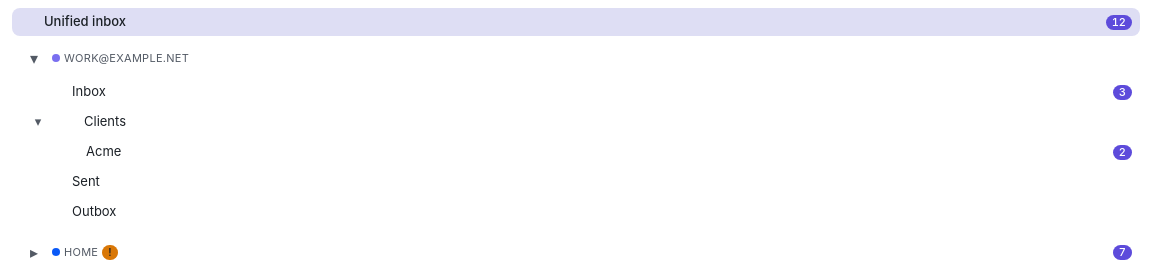
Scenario: the folder context menu › hides the tree-edit verbs when the account cannot edit its folders
The image size is (1152, 277).
Right-click the button "Acme": (104, 151) [86,142,1105,162]
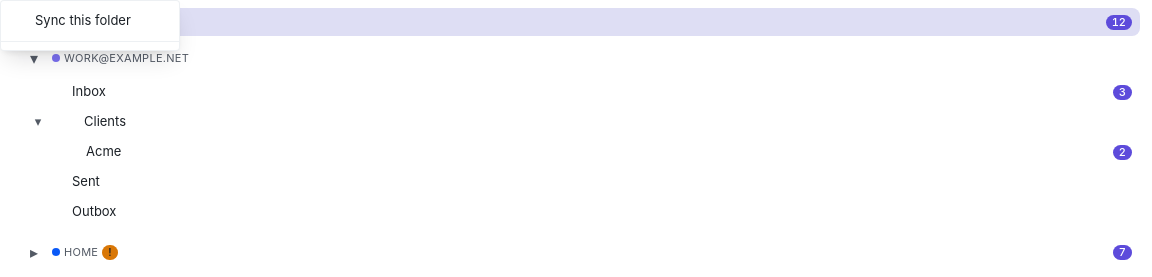
Result: the menu item "Sync this folder" is shown at [35,12,131,28]
